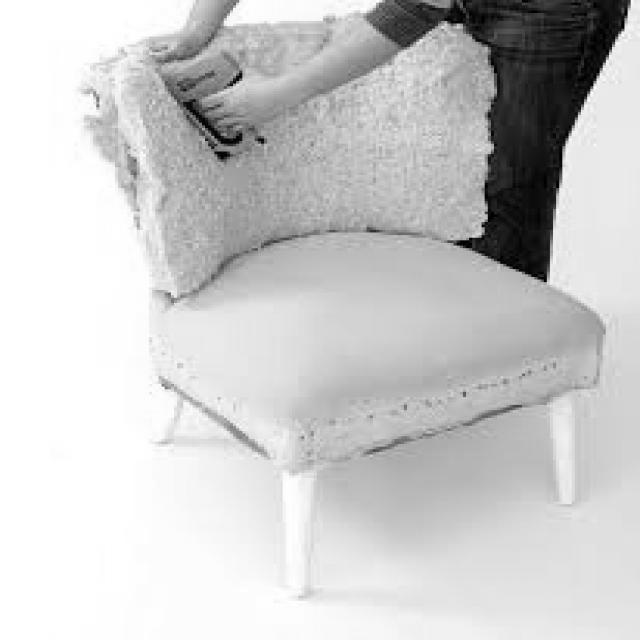chair: (84, 11, 606, 598)
